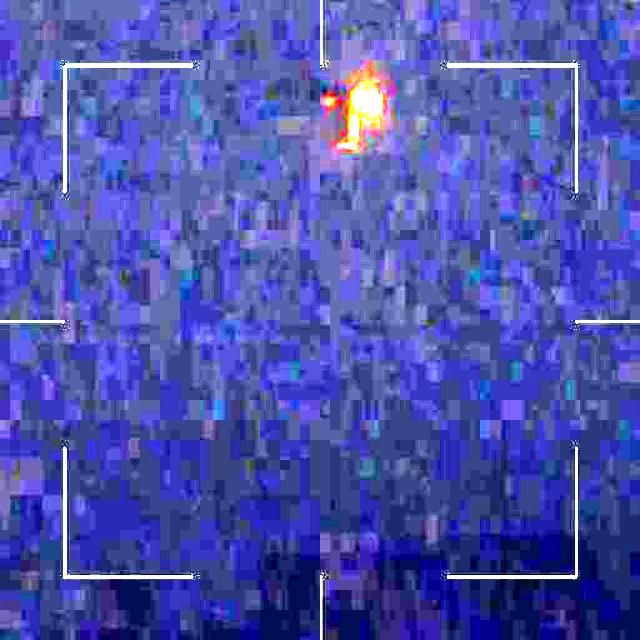bird: (296, 75, 382, 159)
